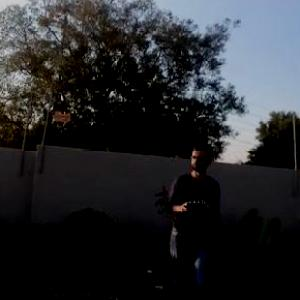follow: (162, 138, 226, 299)
